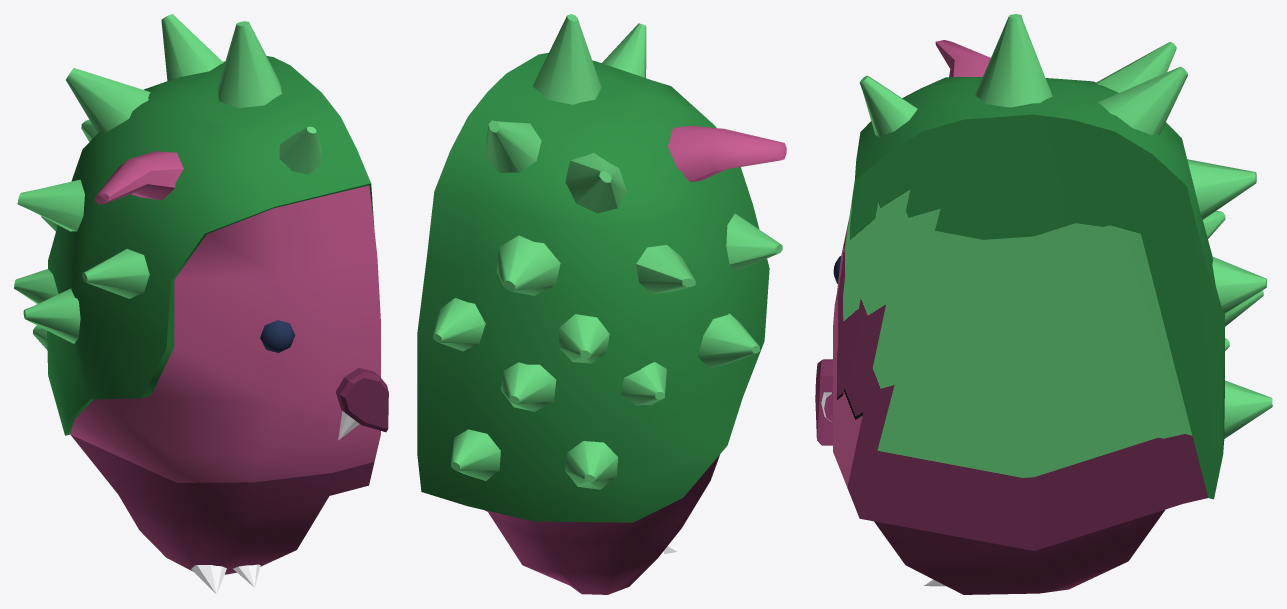
Rendered from spikeL.fbx.
The picture shows the model from 3 angles, left to right: view 1: azimuth 30°, elevation 25°; view 2: azimuth 150°, elevation 25°; view 3: azimuth 270°, elevation 25°; orthographic projection. The views are drawn at different scales.
Visible parts, largest first — view 1: spike; view 2: spike; view 3: spike.
Part boxes in pixels (x1,y1,x2,y2): spike: (14,14,388,594); spike: (417,14,786,594); spike: (815,14,1272,594).
Bounding box in the file's own units: 160 × 316 × 223.
